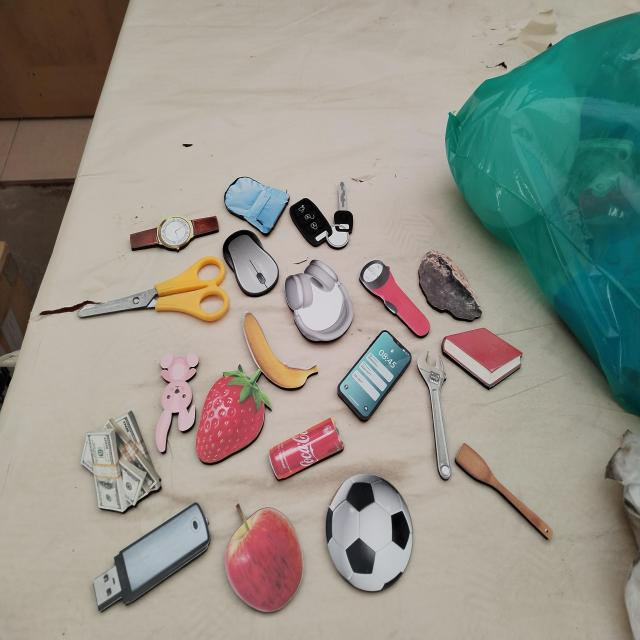Other Objects: (308, 451, 430, 613), (85, 497, 217, 622), (453, 441, 560, 541), (77, 255, 229, 322), (334, 320, 415, 428), (224, 503, 303, 613), (80, 409, 162, 513), (356, 250, 437, 347), (336, 329, 412, 422), (415, 346, 463, 482), (216, 217, 284, 310), (288, 179, 359, 266), (242, 311, 318, 390), (284, 258, 354, 343), (221, 161, 291, 240), (268, 416, 344, 481), (154, 351, 199, 454), (418, 249, 482, 321), (130, 215, 219, 251)
